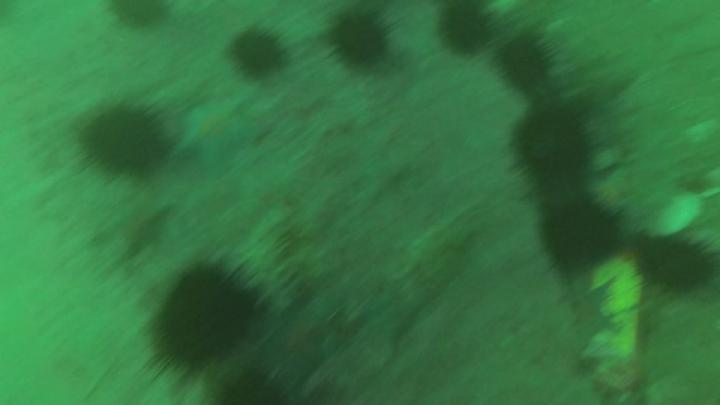echinus: (149, 272, 258, 367), (510, 101, 590, 186), (545, 201, 622, 275), (83, 112, 163, 180), (640, 231, 715, 293), (330, 14, 390, 65), (441, 2, 494, 55), (230, 30, 285, 77), (503, 40, 552, 90), (110, 1, 168, 29)
holothurian: (257, 209, 312, 286)
starfish: (173, 80, 259, 160), (264, 294, 335, 366), (567, 283, 620, 345)
